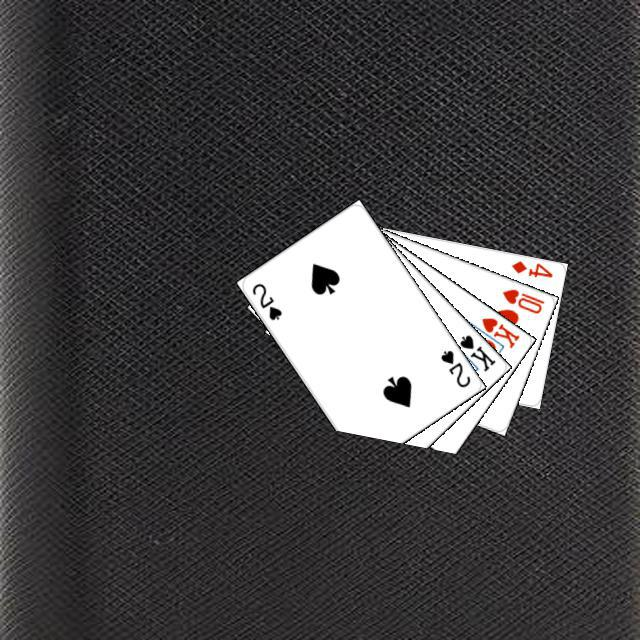10h: (497, 284, 546, 316)
2s: (435, 345, 472, 389), (247, 278, 284, 322)
4d: (507, 256, 554, 279)
Kh: (467, 312, 521, 351)
Ks: (455, 330, 497, 373)
